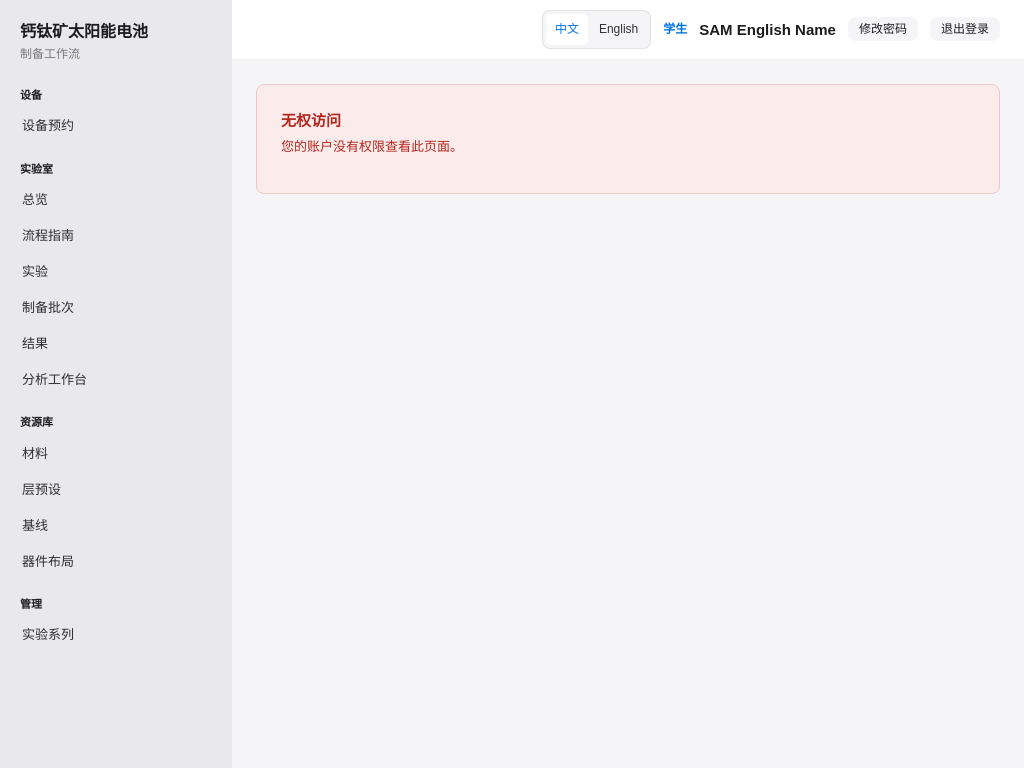
Test: language changes within the application › keeps administrator routes forbidden in both languages
The width and height of the screenshot is (1024, 768).
expect the text "无权访问" is shown: met, box top-left (281, 112), bottom-right (341, 129)
Step 1. Click the button "English" → (619, 29), box top-left (590, 14), bottom-right (647, 45)
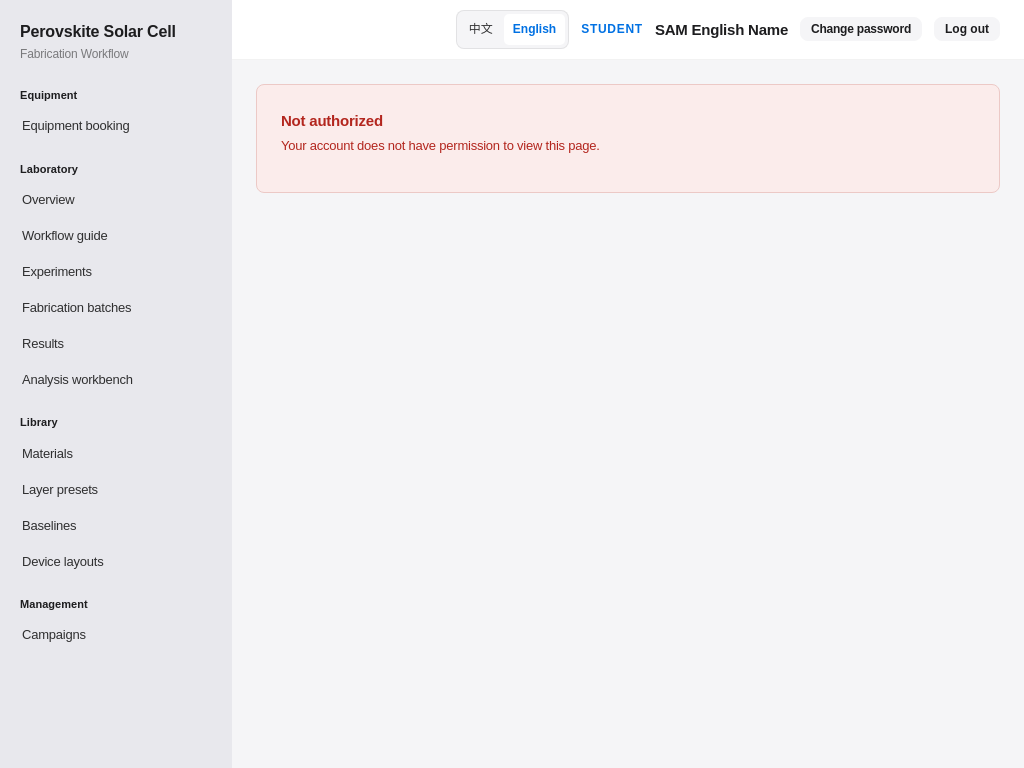
expect the text "Not authorized" is shown: met, box top-left (281, 112), bottom-right (383, 129)
